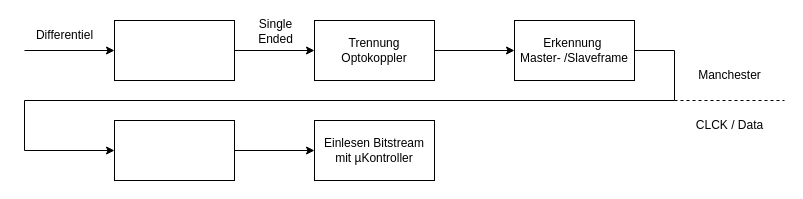
The diagram is 803 pixels wide and 199 high, and some of its shapes have lost their labels. Here are the shapes that lost their labels. From the top down, the centre of each, then its label:
At (x=174, y=50): "RS485 Transceiver".
At (x=174, y=150): "Umwandlung Manchester zu Bitstream".
